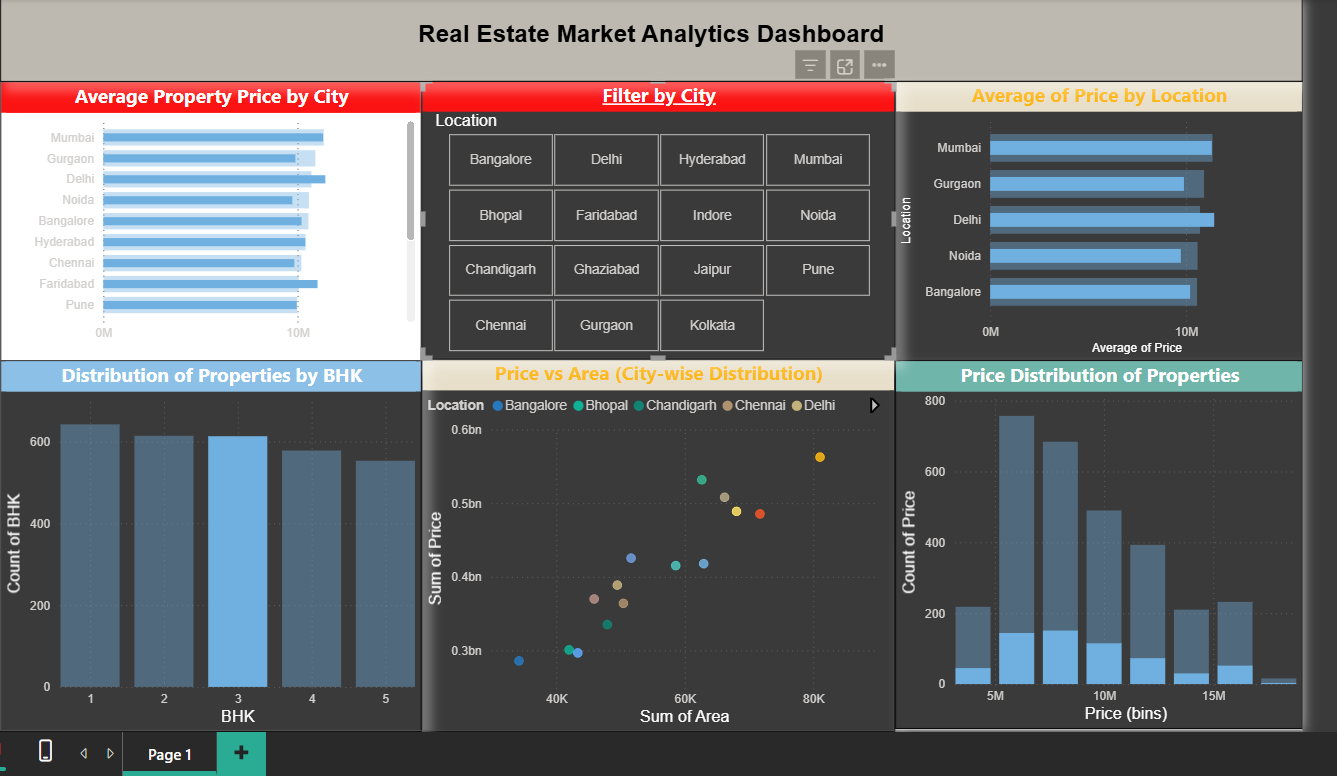

The dashboard page shown, as its layout file describes it:
{"tool":"powerbi","page":{"name":"Page 1","canvas":[1280,720],"ordinal":0},"visuals":[{"type":"group","id":"g1","title":"Group 1","box":[1.2,81,1278.3,639.2],"z":0},{"type":"clusteredBarChart","fields":{"Y":["Avg(final_realestate_data.Price)"],"Category":["final_realestate_data.Location"]},"box":[879.5,81.1,400,275.2],"z":0,"group":"g3"},{"type":"clusteredBarChart","title":"Average Property Price by City","fields":{"Category":["final_realestate_data.Location"],"Y":["Avg(final_realestate_data.Price)"]},"box":[1.2,82.1,413.5,274.8],"z":0,"group":"g2"},{"type":"scatterChart","title":"Price vs Area (City-wise Distribution)","fields":{"X":["Sum(final_realestate_data.Area)"],"Y":["Sum(final_realestate_data.Price)"],"Series":["final_realestate_data.Location"]},"box":[414.7,354.6,465,365.6],"z":0,"group":"g1"},{"type":"textbox","box":[1.2,0,1278.5,82.2],"z":1000},{"type":"slicer","title":"Filter by City","fields":{"Values":["final_realestate_data.Location"]},"box":[414.4,81,465,273.6],"z":1000,"group":"g1"},{"type":"clusteredColumnChart","title":"Distribution of Properties by BHK","fields":{"Category":["final_realestate_data.BHK"],"Y":["CountNonNull(final_realestate_data.BHK)"]},"box":[1.2,355.7,413.5,364.4],"z":1000,"group":"g2"},{"type":"clusteredColumnChart","title":"Price Distribution of Properties","fields":{"Y":["CountNonNull(final_realestate_data.Price)"],"Category":["final_realestate_data.Price (bins)"]},"box":[879.5,356.3,400,361.6],"z":1000,"group":"g3"},{"type":"group","id":"g2","title":"Group 2","box":[1.2,82.1,413.5,638],"z":2000,"group":"g1"},{"type":"group","id":"g3","title":"Group 3","box":[879.5,81.1,400,636.8],"z":3000,"group":"g1"}]}

Visuals, with their boxes in screenshot pixels (x1, y1, x2, y2):
"Group 1" group: pyautogui.locateOnScreen(0, 108, 1304, 766)
clusteredBarChart - Avg(final_realestate_data.Price) x final_realestate_data.Location: pyautogui.locateOnScreen(892, 108, 1304, 391)
"Average Property Price by City" clusteredBarChart: pyautogui.locateOnScreen(0, 109, 413, 392)
"Price vs Area (City-wise Distribution)" scatterChart: pyautogui.locateOnScreen(413, 390, 892, 766)
textbox: pyautogui.locateOnScreen(0, 24, 1304, 109)
"Filter by City" slicer: pyautogui.locateOnScreen(413, 108, 892, 390)
"Distribution of Properties by BHK" clusteredColumnChart: pyautogui.locateOnScreen(0, 391, 413, 766)
"Price Distribution of Properties" clusteredColumnChart: pyautogui.locateOnScreen(892, 391, 1304, 764)
"Group 2" group: pyautogui.locateOnScreen(0, 109, 413, 766)
"Group 3" group: pyautogui.locateOnScreen(892, 108, 1304, 764)
